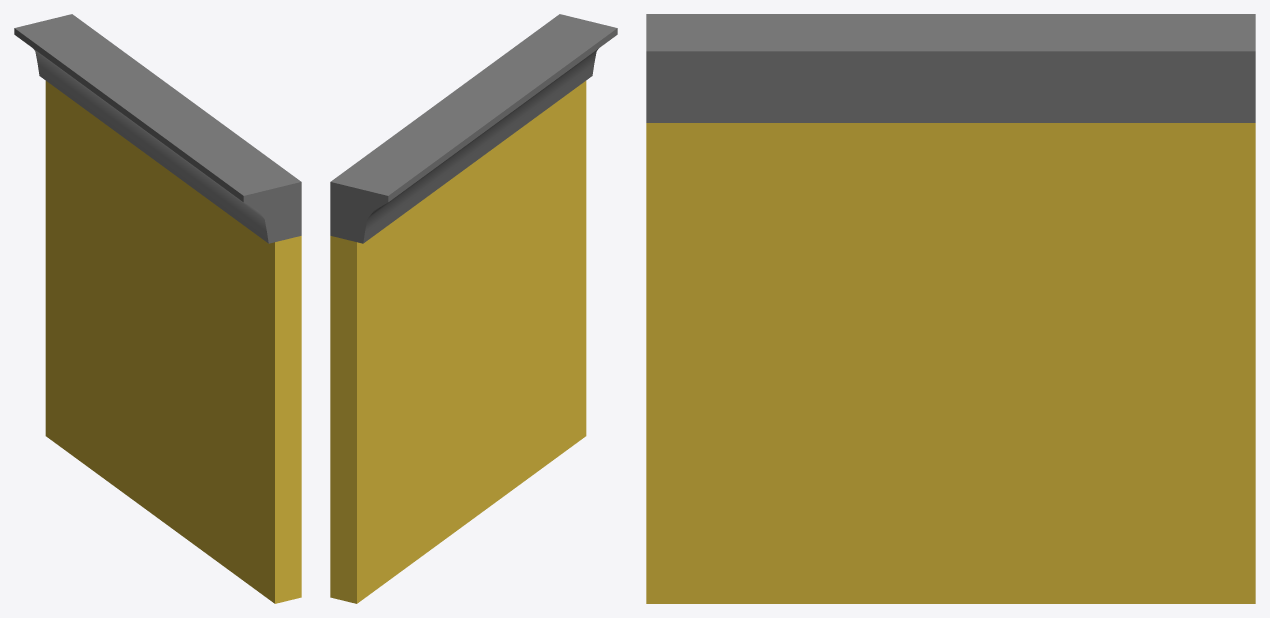
File: Wall1_Top.fbx
3 views of the same model, side by side, from view 1: azimuth 30°, elevation 25°; view 2: azimuth 150°, elevation 25°; view 3: azimuth 270°, elevation 25° (orthographic). The views are drawn at different scales.
Visible parts, largest first — view 1: Wall002_Top; view 2: Wall002_Top; view 3: Wall002_Top.
Part boxes in pixels (<box>): Wall002_Top: <box>14,14,301,603</box>; Wall002_Top: <box>330,14,617,603</box>; Wall002_Top: <box>646,14,1255,603</box>.
Size of the model in its own units: 17.19 by 118 by 118.
